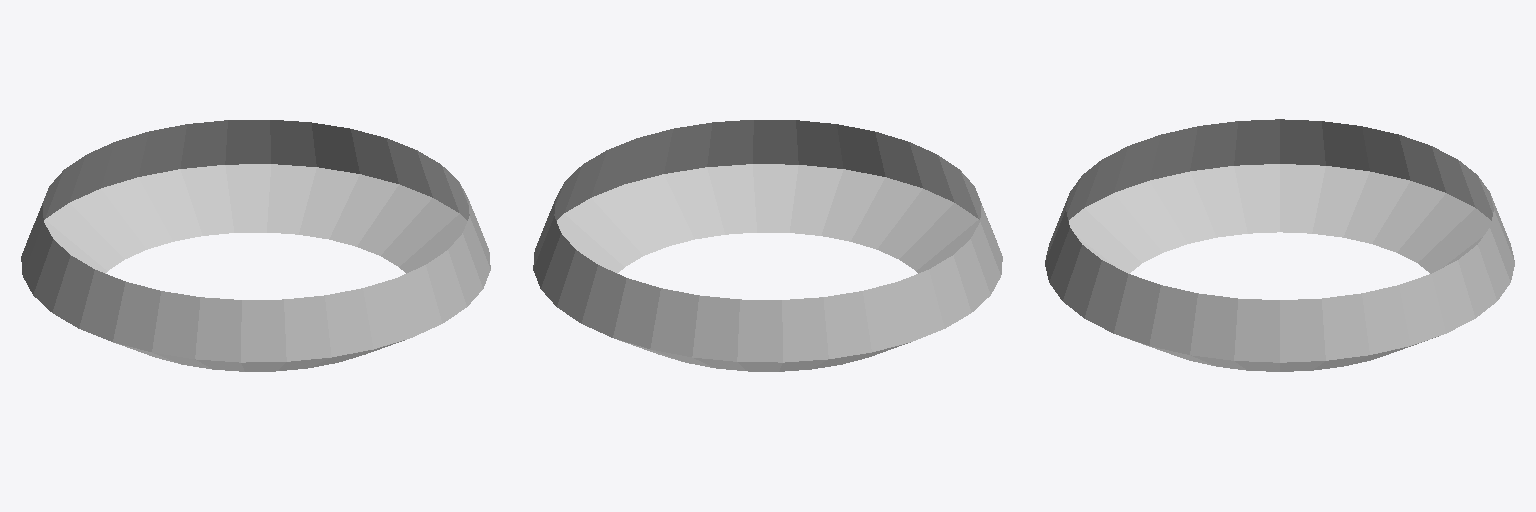
The model's file is PounceImpactBig.obj.
The picture shows the model from 3 angles: view 1: azimuth 30°, elevation 25°; view 2: azimuth 150°, elevation 25°; view 3: azimuth 270°, elevation 25°; orthographic projection.
Parts seen in each view (by area): view 1: Circle; view 2: Circle; view 3: Circle.
Part boxes in pixels (x1,y1,x2,y2): Circle: (21,120,490,371); Circle: (533,120,1002,371); Circle: (1045,119,1514,371).
Size of the model in its own units: 2.63 by 0.5691 by 2.63.